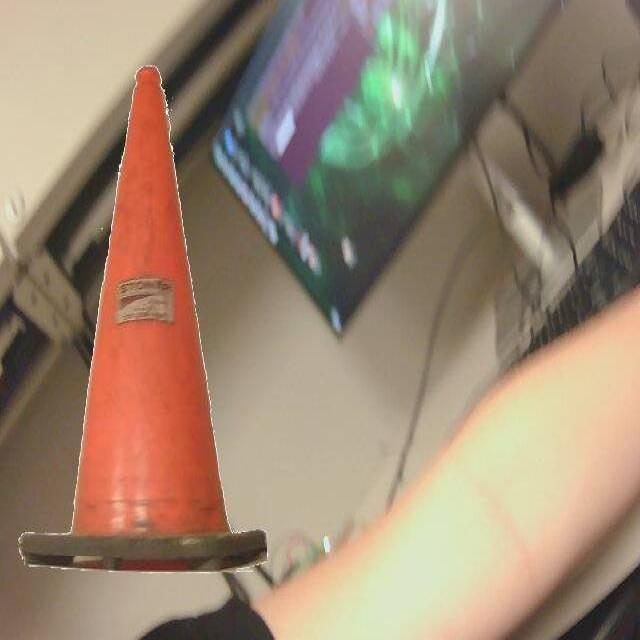traffic cone: (14, 55, 274, 582)
